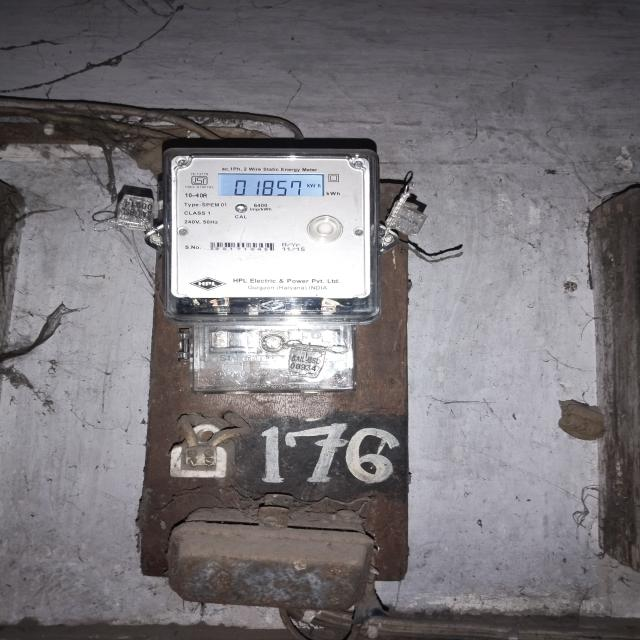display: (213, 167, 329, 200)
